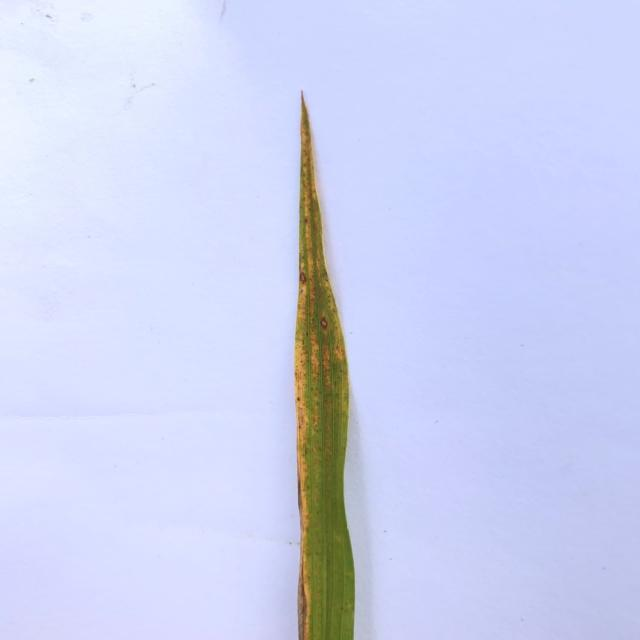Rice Tungro: (230, 1, 414, 640)
